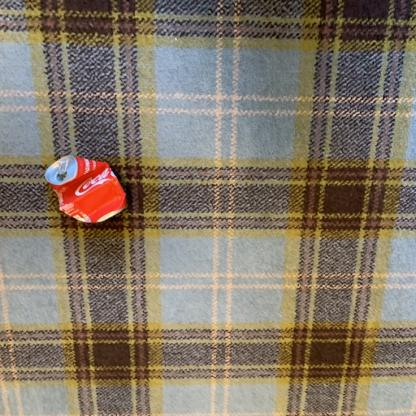trash: (45, 154, 130, 227)
